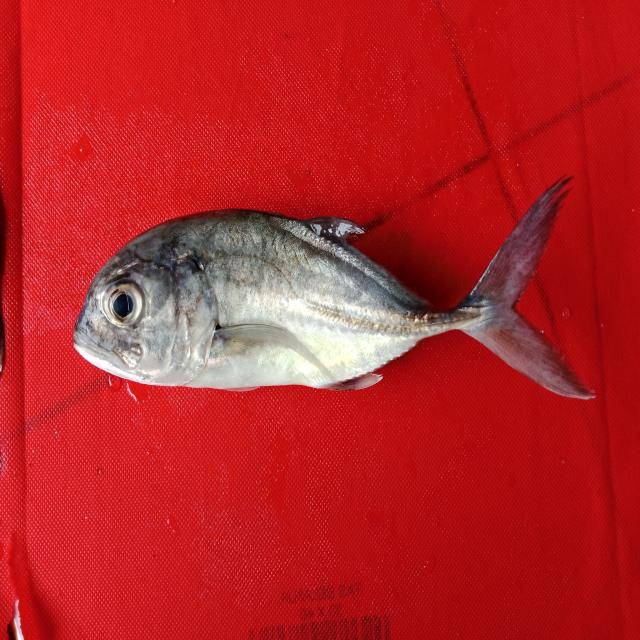ikan: (57, 155, 598, 422)
